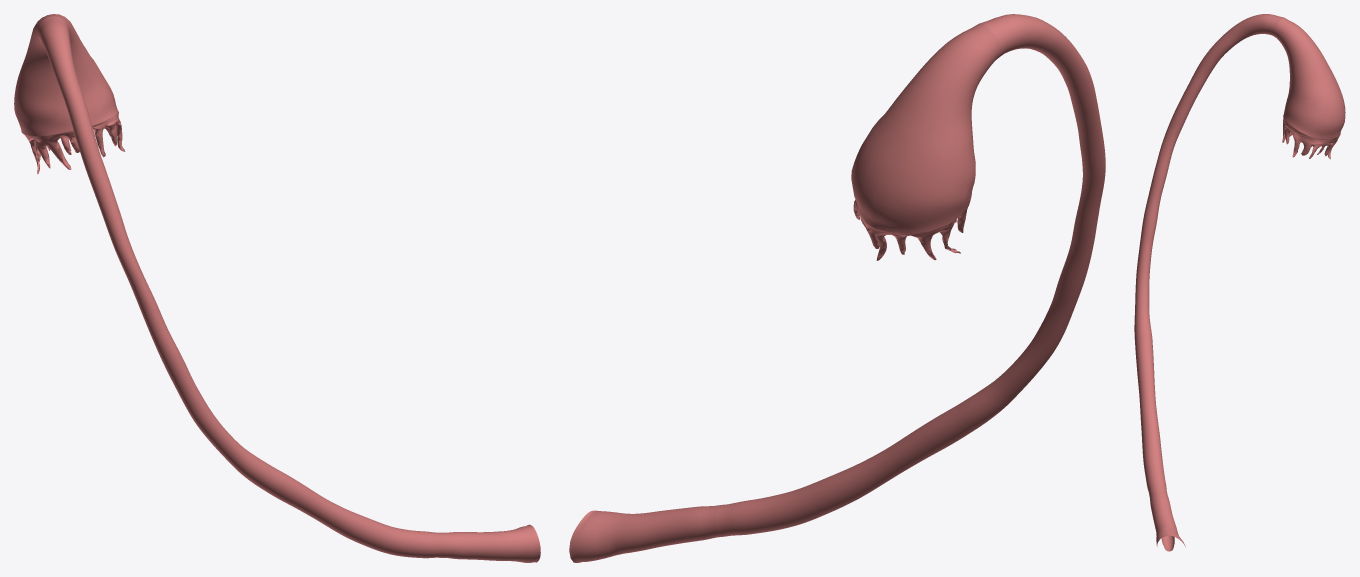
The model's file is vh_f_fallopian_tube_r-100.glb.
3 views of the same model, side by side, from view 1: azimuth 30°, elevation 25°; view 2: azimuth 150°, elevation 25°; view 3: azimuth 270°, elevation 25° (orthographic). The views are drawn at different scales.
Visible parts, largest first — view 1: VH_F_ampulla_of_uterine_tube_R, VH_F_uterine_tube_infundibulum_R, VH_F_isthmus_of_fallopian_tube_R, VH_F_fibria_of_uterine_tube_R; view 2: VH_F_ampulla_of_uterine_tube_R, VH_F_uterine_tube_infundibulum_R, VH_F_isthmus_of_fallopian_tube_R, VH_F_fibria_of_uterine_tube_R; view 3: VH_F_ampulla_of_uterine_tube_R, VH_F_uterine_tube_infundibulum_R, VH_F_isthmus_of_fallopian_tube_R, VH_F_fibria_of_uterine_tube_R.
Part boxes in pixels (box(x1,y1,x2,y2)): VH_F_ampulla_of_uterine_tube_R: box(37, 16, 450, 558); VH_F_uterine_tube_infundibulum_R: box(14, 14, 118, 136); VH_F_isthmus_of_fallopian_tube_R: box(442, 524, 540, 562); VH_F_fibria_of_uterine_tube_R: box(22, 112, 125, 174); VH_F_ampulla_of_uterine_tube_R: box(715, 14, 1105, 536); VH_F_uterine_tube_infundibulum_R: box(851, 23, 1001, 233); VH_F_isthmus_of_fallopian_tube_R: box(569, 505, 722, 562); VH_F_fibria_of_uterine_tube_R: box(853, 200, 967, 260); VH_F_ampulla_of_uterine_tube_R: box(1134, 14, 1283, 493); VH_F_uterine_tube_infundibulum_R: box(1273, 17, 1345, 139); VH_F_isthmus_of_fallopian_tube_R: box(1149, 488, 1185, 551); VH_F_fibria_of_uterine_tube_R: box(1282, 117, 1339, 159).
Bounding box in the file's own units: 0.0344 × 0.0446 × 0.0209.
